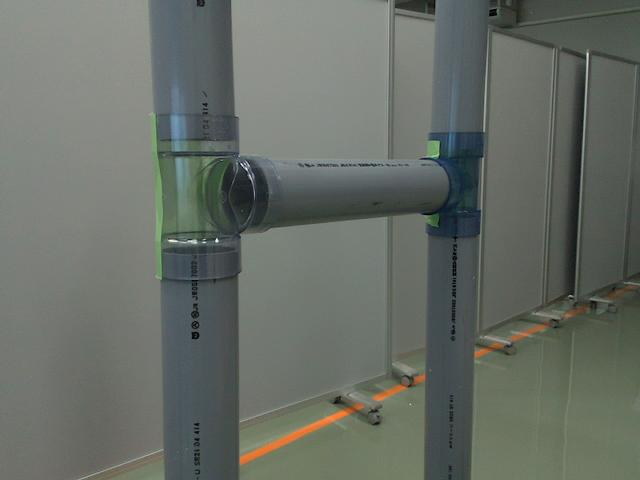junction: (155, 116, 275, 287), (413, 137, 488, 243)
